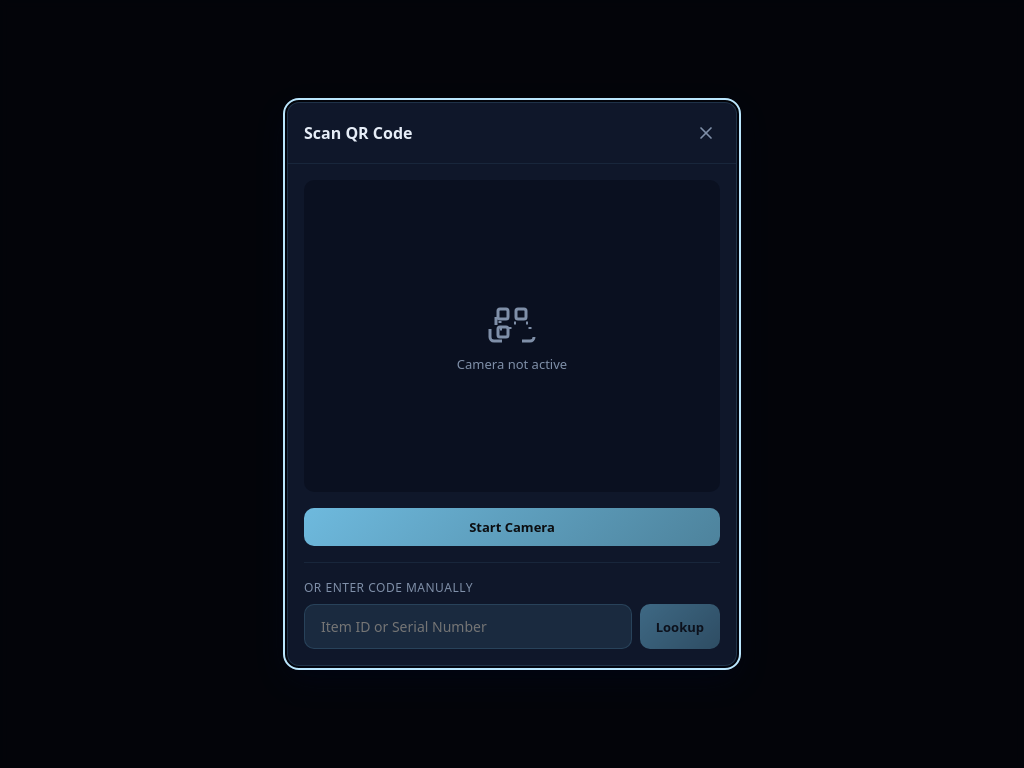
Scenario: QRScannerModal manual lookup › clears the lookup error when the user edits the code
Type "NOPE99" into the field labelled "Or enter code manually". click: (468, 626)
box: [304,604,632,649]
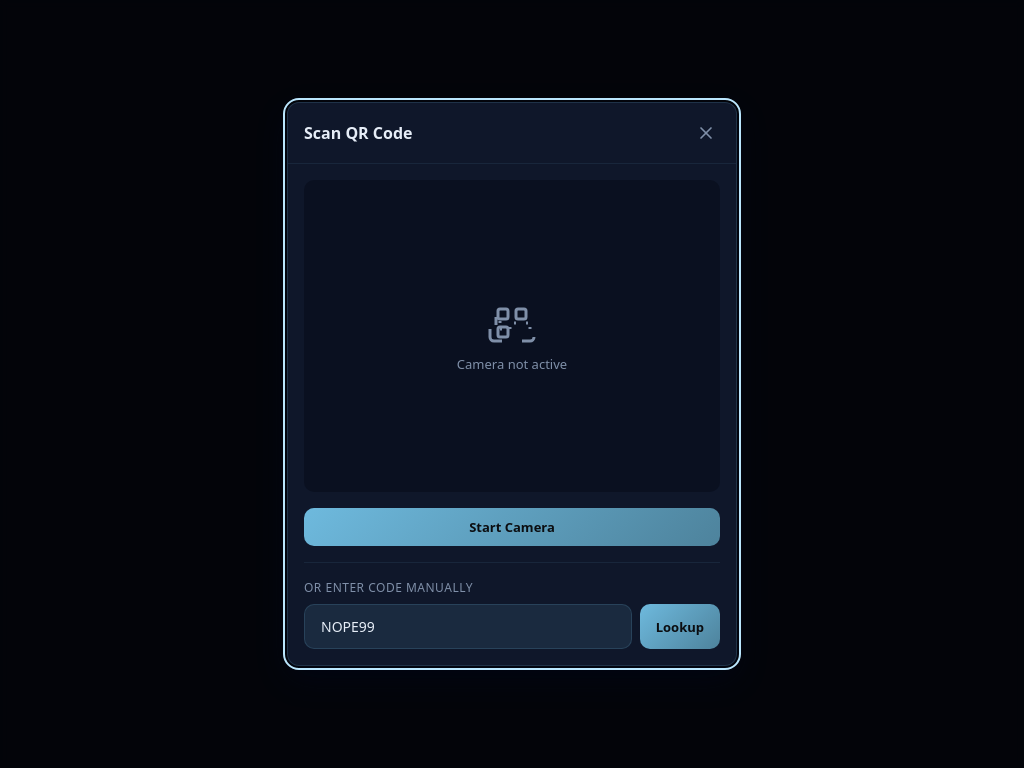
Click the button "Lookup". click: (680, 626)
box: [640,604,720,649]
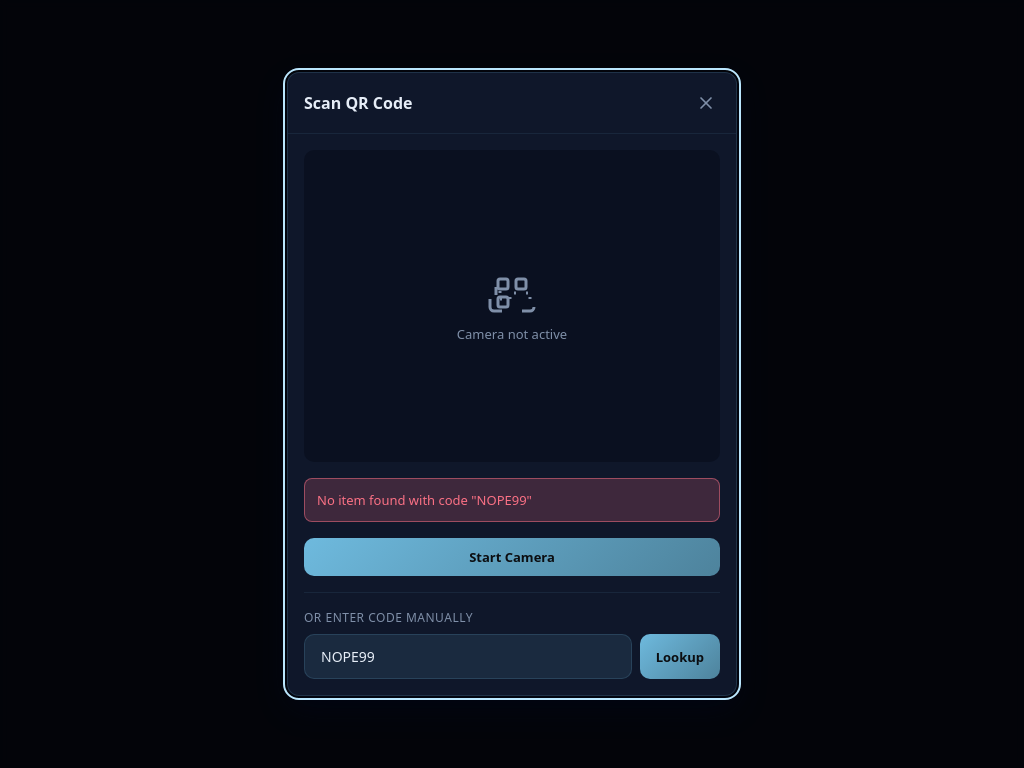
Replace the text in the field labelled "Or enter code manually" with "CA". click: (468, 656)
box: [304,634,632,679]
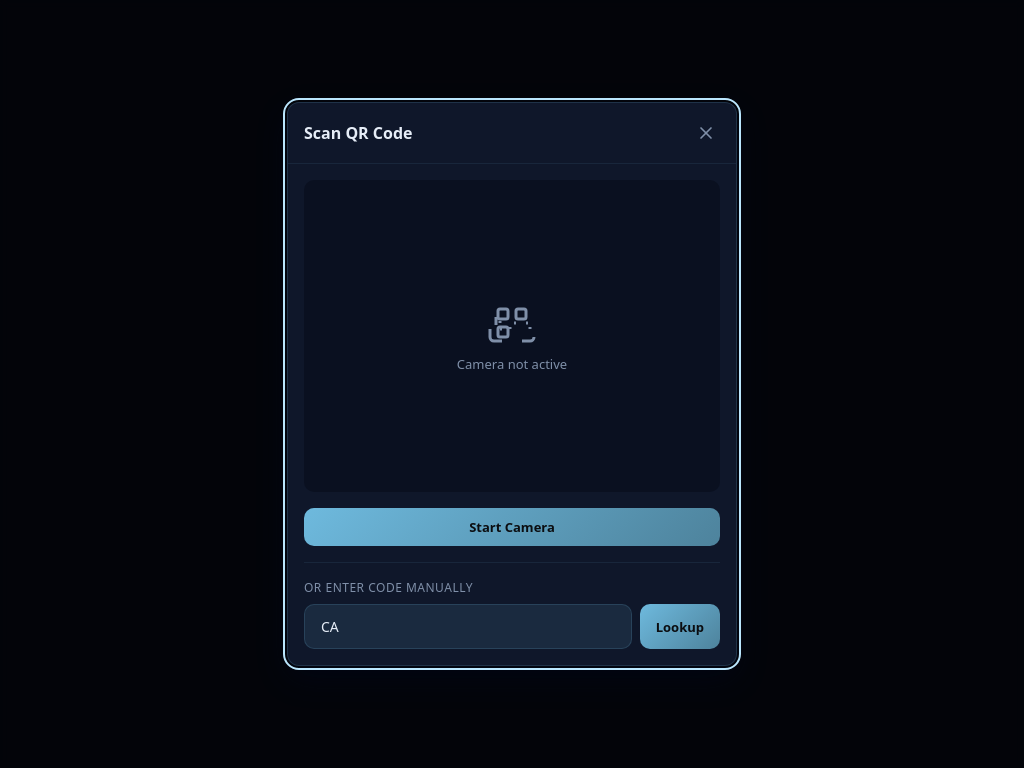
Now the text "No item found" is gone
